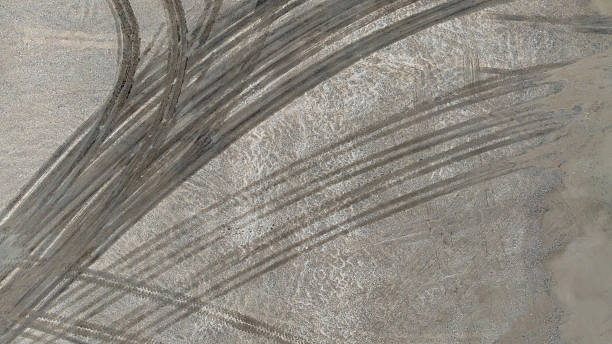vehicle_track: (54, 63, 574, 303), (35, 103, 540, 342), (109, 22, 435, 222), (9, 2, 194, 316), (6, 2, 158, 236)
